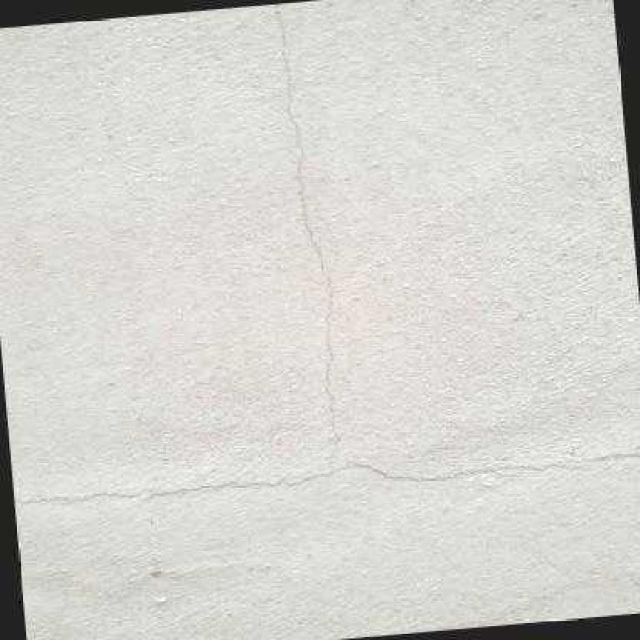D00: (17, 7, 640, 506)
